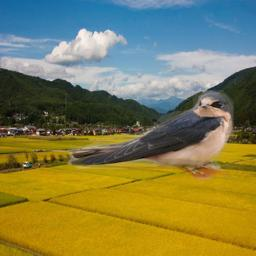Swallow: (67, 89, 234, 180)
